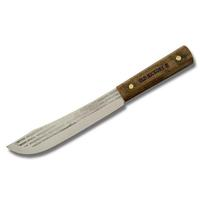knife: (6, 43, 192, 155)
